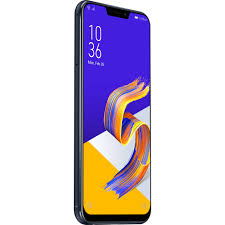asus: (69, 1, 155, 225)
